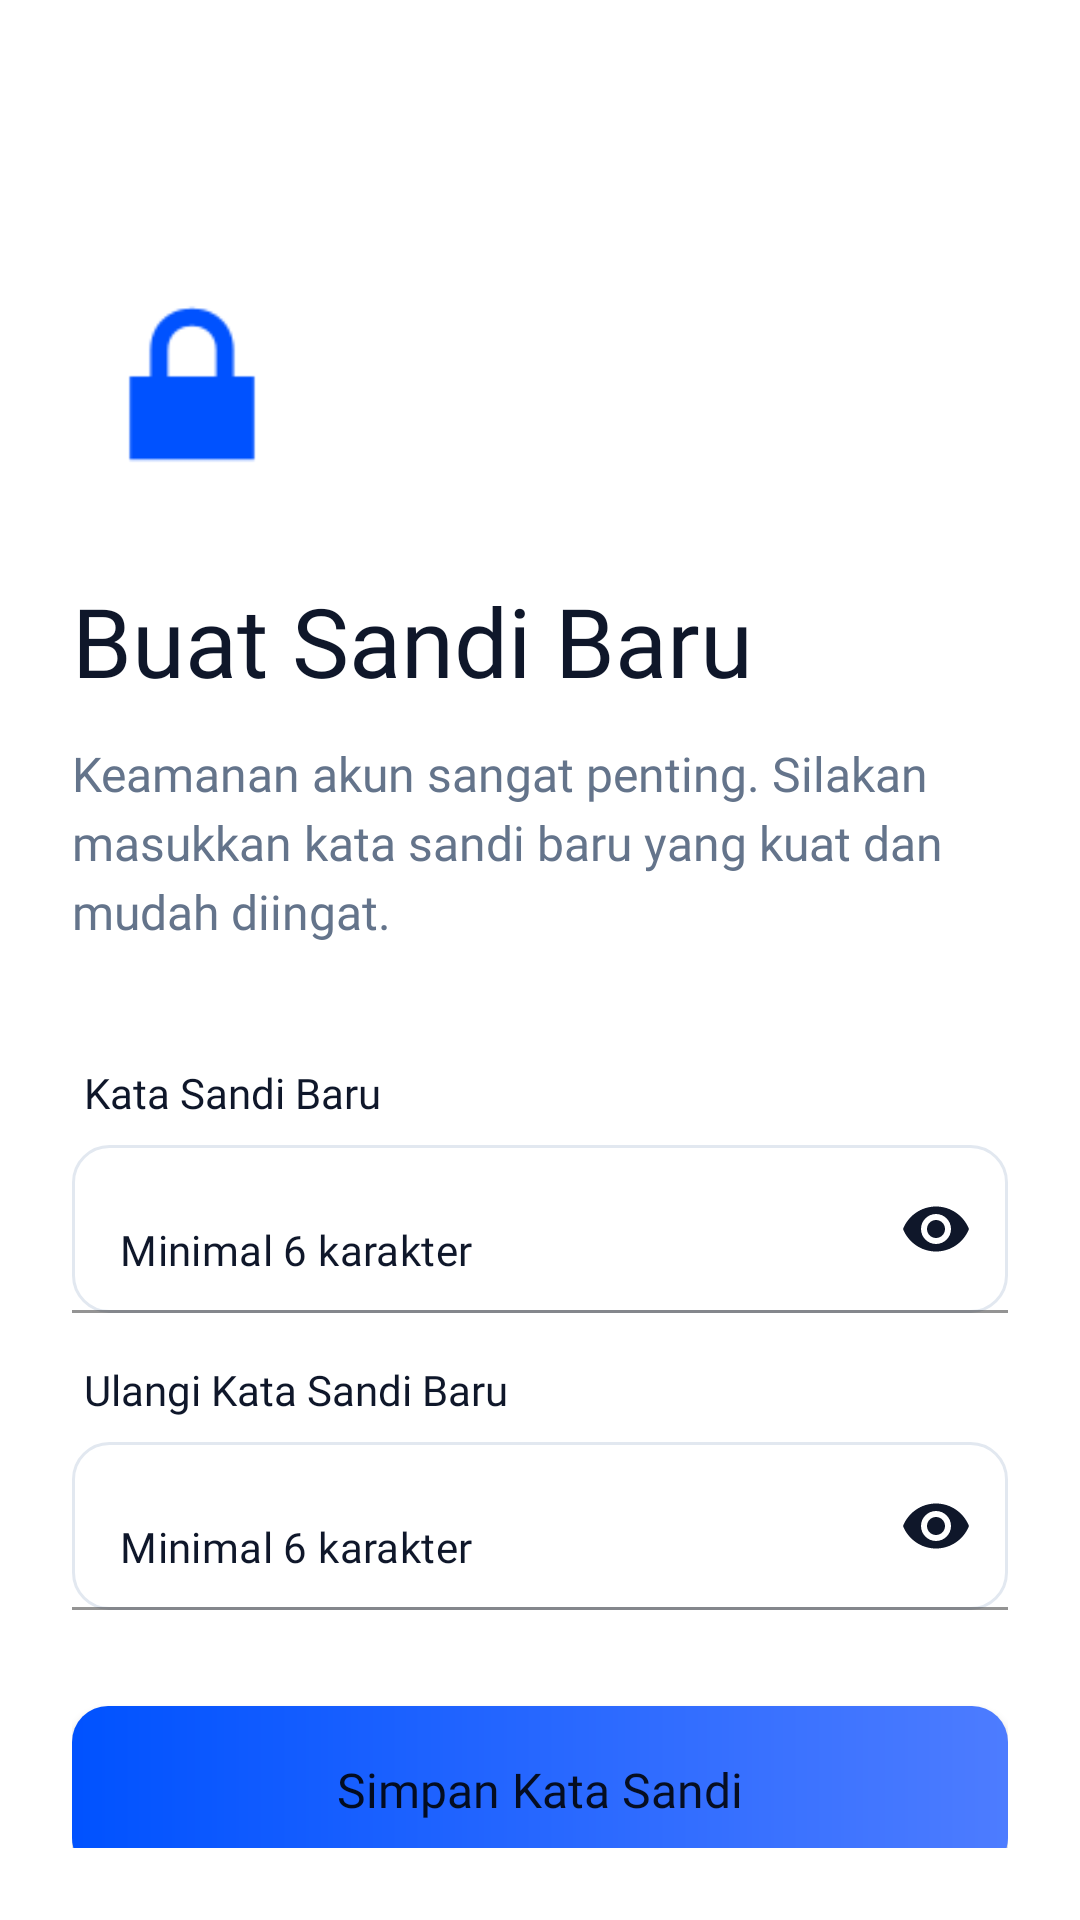

Named icons in this screenshot (1080px×1920px) and their centers, point (x, y):
lock: point (192, 384)
